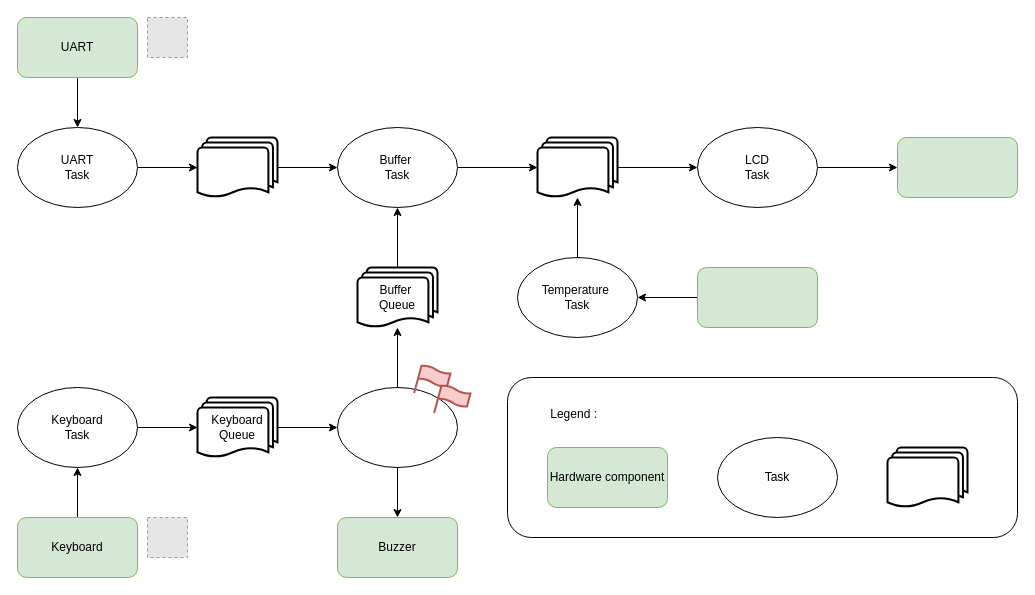
The diagram is 1035 pixels wide and 595 high, and some of its shapes have lost their labels. Grey dashed boxes stand in for pictures. Each missing label, with the box of its shape:
I2C Temperature: (696, 266, 818, 328)
LCD: (896, 136, 1018, 198)
LCD Queue: (536, 136, 618, 198)
Menu Task: (336, 386, 458, 468)
Queue: (886, 446, 968, 508)
UART Queue: (196, 136, 278, 198)
